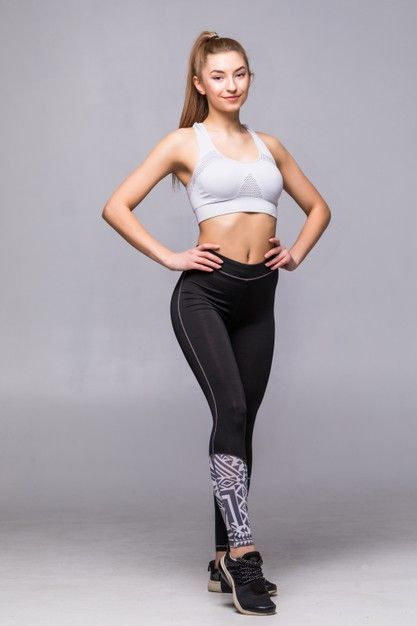person: (102, 28, 341, 626)
